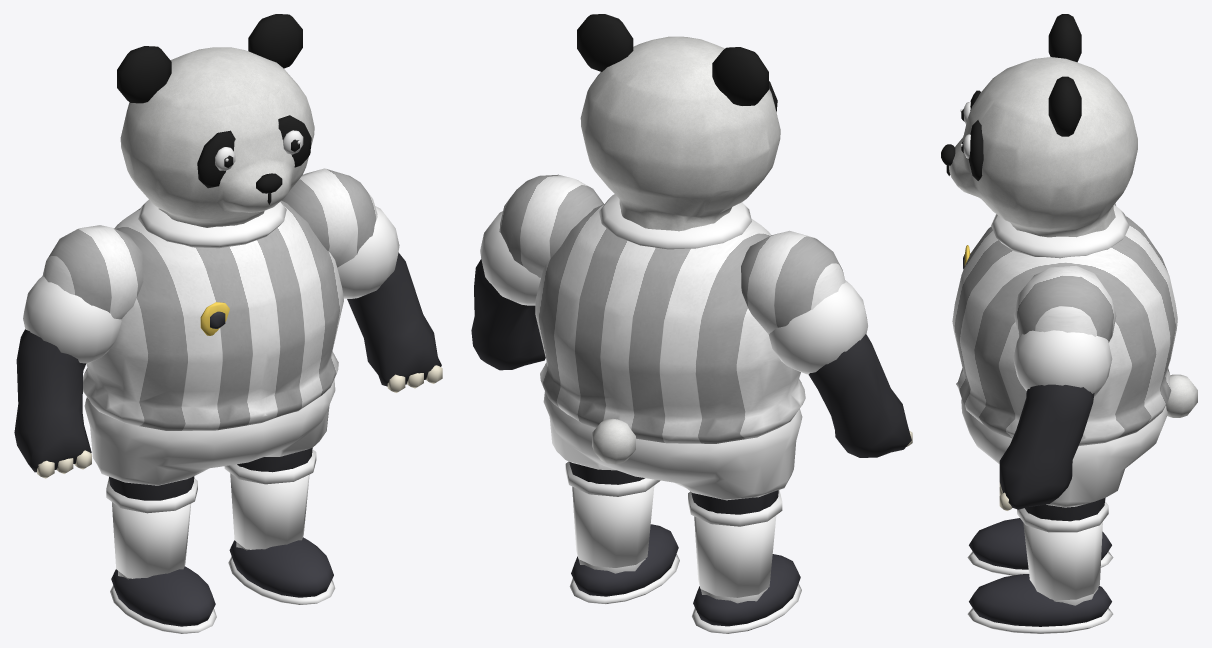
File: char_panda_lite.glb
The picture shows the model from 3 angles, left to right: view 1: azimuth 30°, elevation 25°; view 2: azimuth 150°, elevation 25°; view 3: azimuth 270°, elevation 25°; orthographic projection. The views are drawn at different scales.
Parts seen in each view (by area): view 1: Body.003, Head.003, ArmR.003, ArmL.003, LegR.003, LegL.003; view 2: Body.003, Head.003, ArmR.003, ArmL.003, LegR.003, LegL.003; view 3: Body.003, Head.003, ArmL.003, LegL.003, LegR.003.
Part boxes in pixels (x1,y1,x2,y2): Body.003: [83, 200, 343, 485]; Head.003: [117, 14, 314, 227]; ArmR.003: [14, 225, 143, 478]; ArmL.003: [282, 168, 442, 392]; LegR.003: [106, 476, 216, 633]; LegL.003: [224, 448, 335, 604]; Body.003: [535, 194, 805, 500]; Head.003: [577, 14, 780, 231]; ArmR.003: [741, 230, 912, 457]; ArmL.003: [471, 174, 603, 370]; LegR.003: [688, 490, 801, 633]; LegL.003: [565, 461, 679, 604]; Body.003: [952, 205, 1197, 507]; Head.003: [941, 14, 1137, 237]; ArmL.003: [999, 265, 1116, 510]; LegL.003: [967, 498, 1113, 633]; LegR.003: [967, 518, 1113, 575].
Bounding box in the file's own units: 1.88 × 2.44 × 1.04.
Materials: 12 (2 with a texture image).
